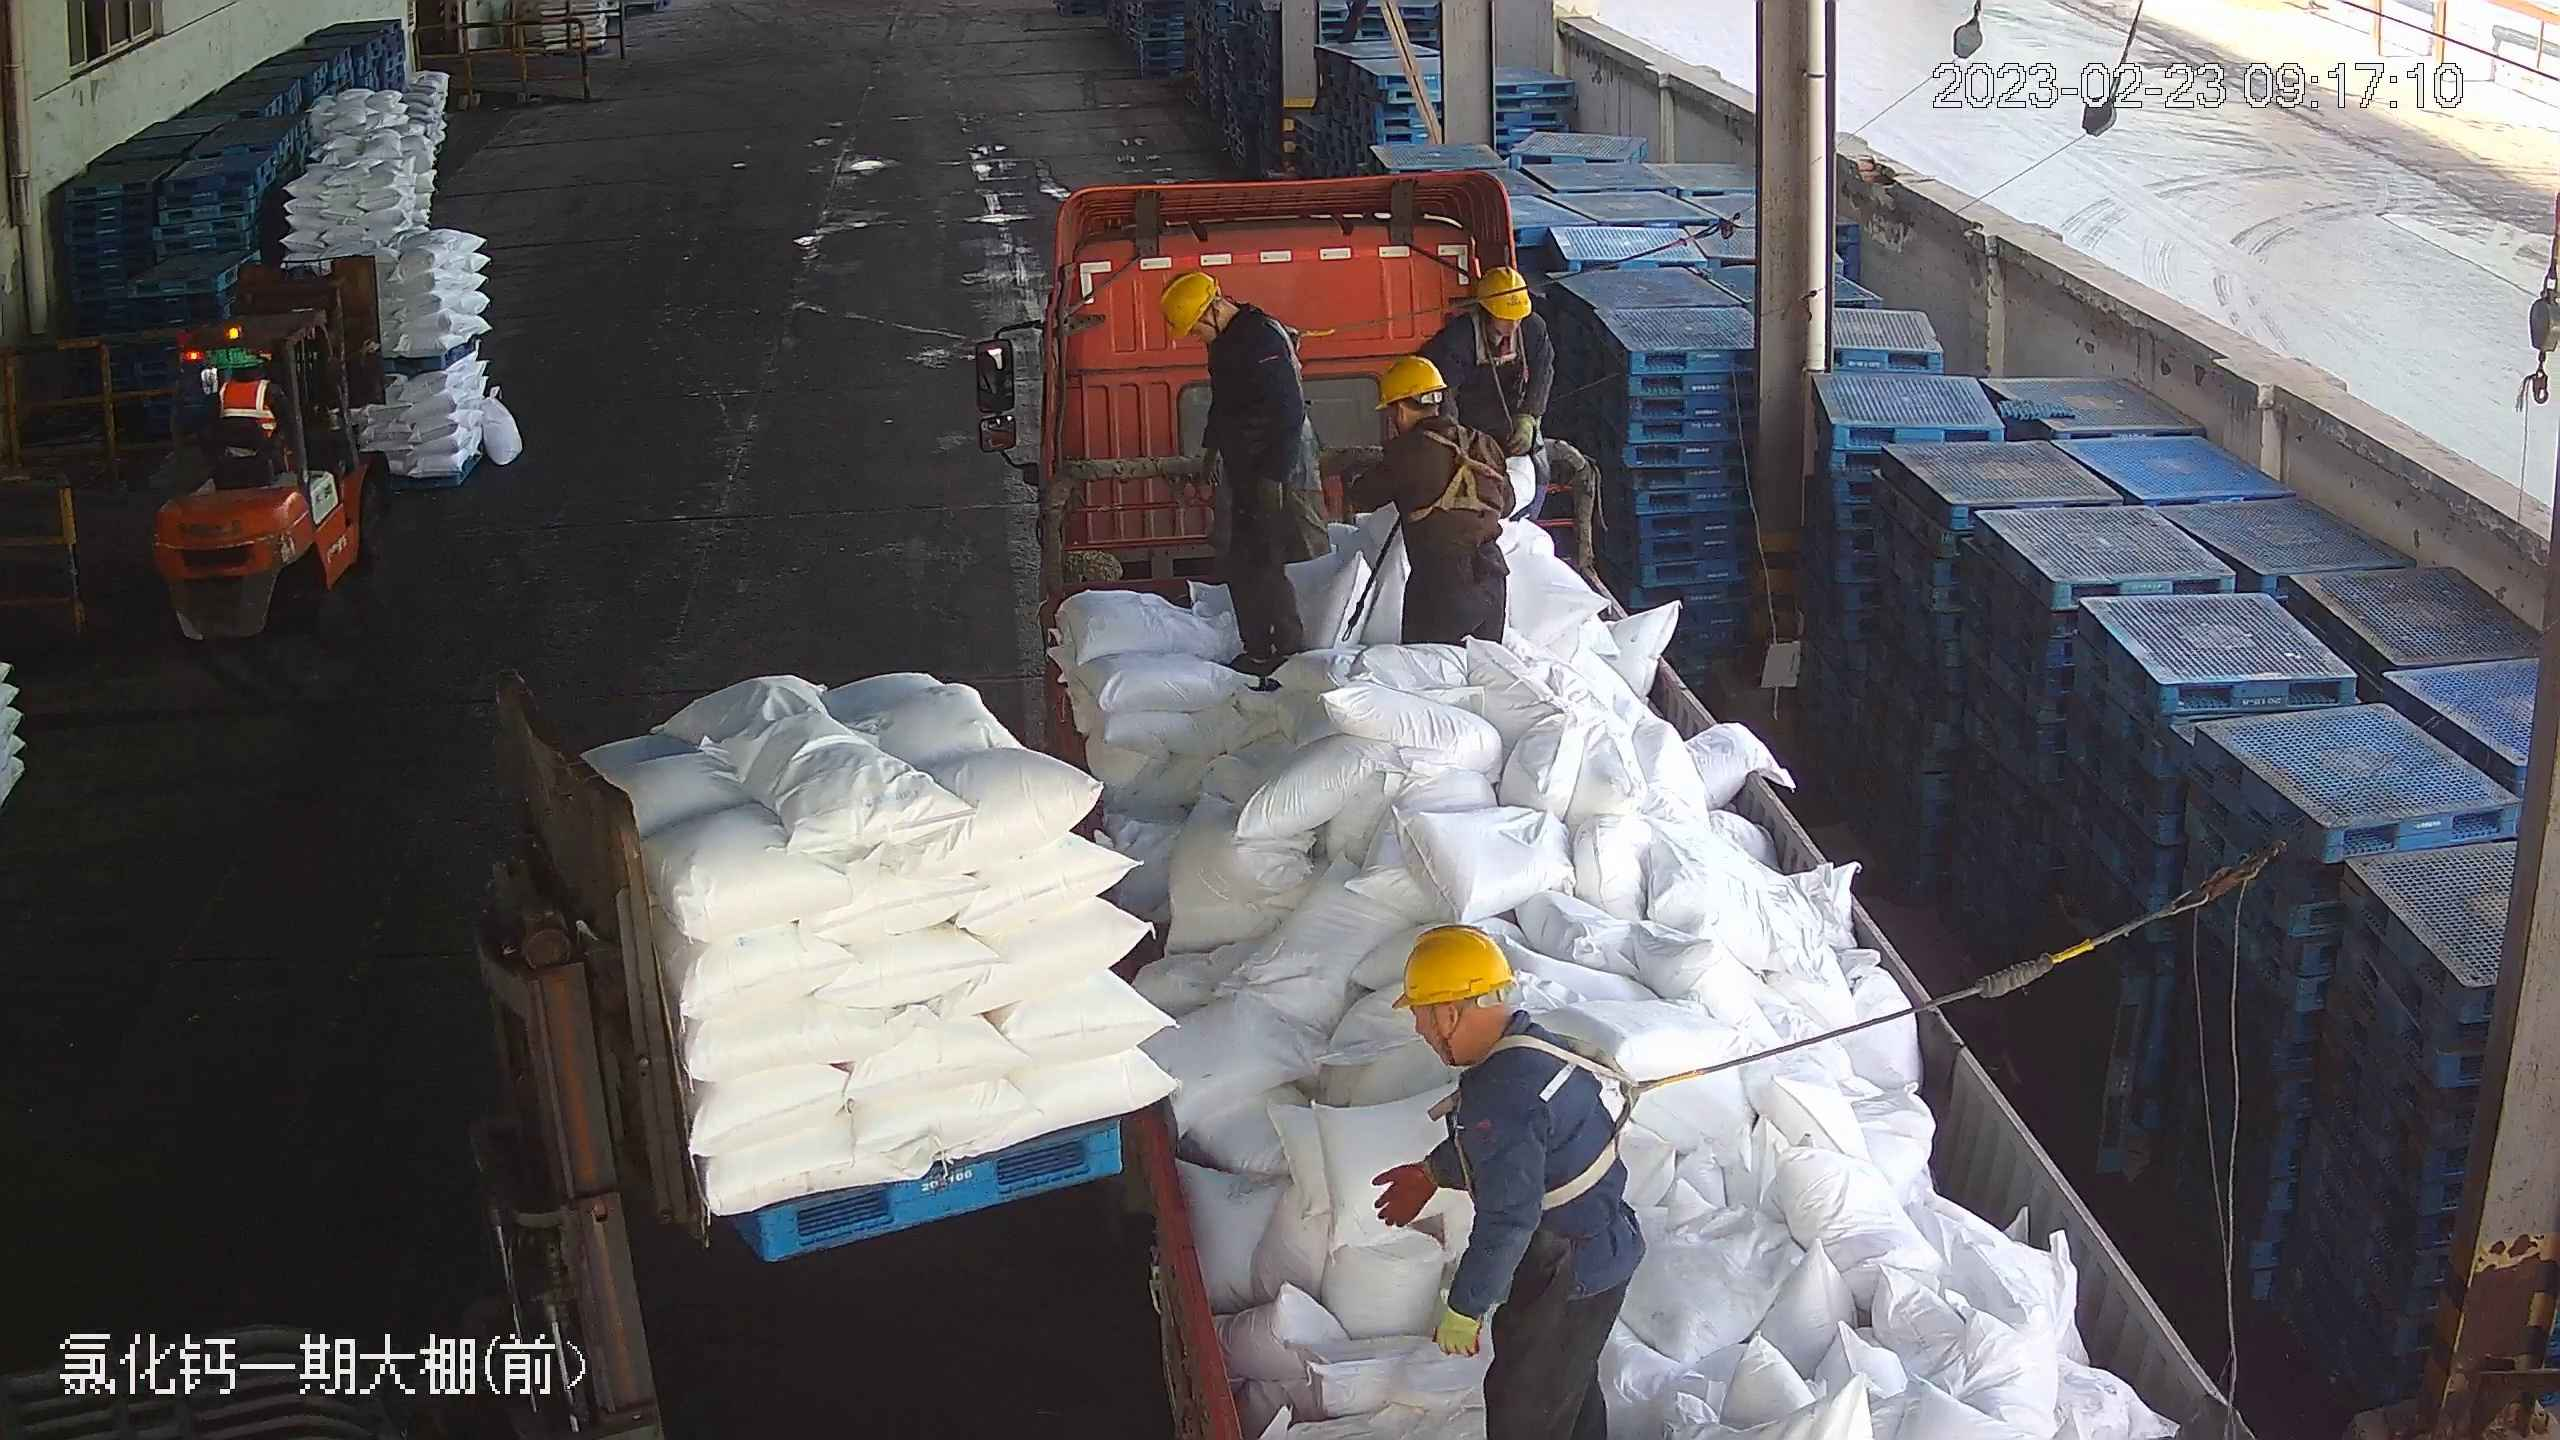belt: (1493, 1031, 1707, 1200), (1407, 422, 1497, 523), (1263, 305, 1321, 390), (1464, 327, 1532, 397)
head: (1387, 925, 1599, 1151), (1154, 270, 1293, 401), (1369, 357, 1484, 484), (1449, 263, 1546, 361)
helmet: (1391, 922, 1518, 1006), (1155, 267, 1222, 336), (1373, 353, 1445, 406), (1474, 262, 1535, 320)
people: (1379, 923, 1648, 1438), (1158, 271, 1328, 692), (1339, 368, 1516, 652)
truck: (971, 159, 2268, 1434)
